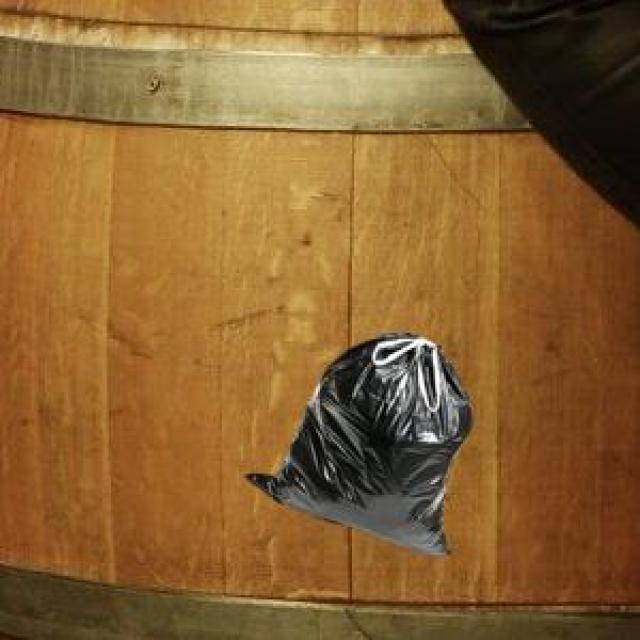waste: (246, 334, 471, 553)
